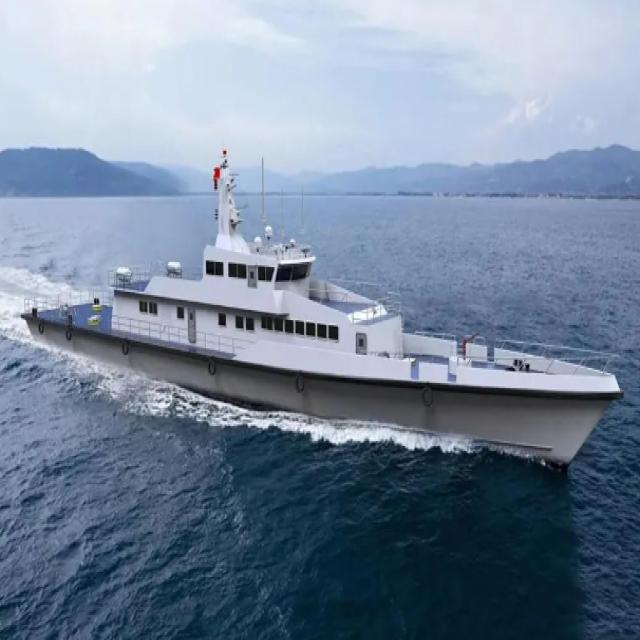houseboat: (29, 132, 616, 439)
